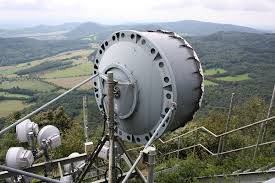ba: (76, 26, 218, 148)
